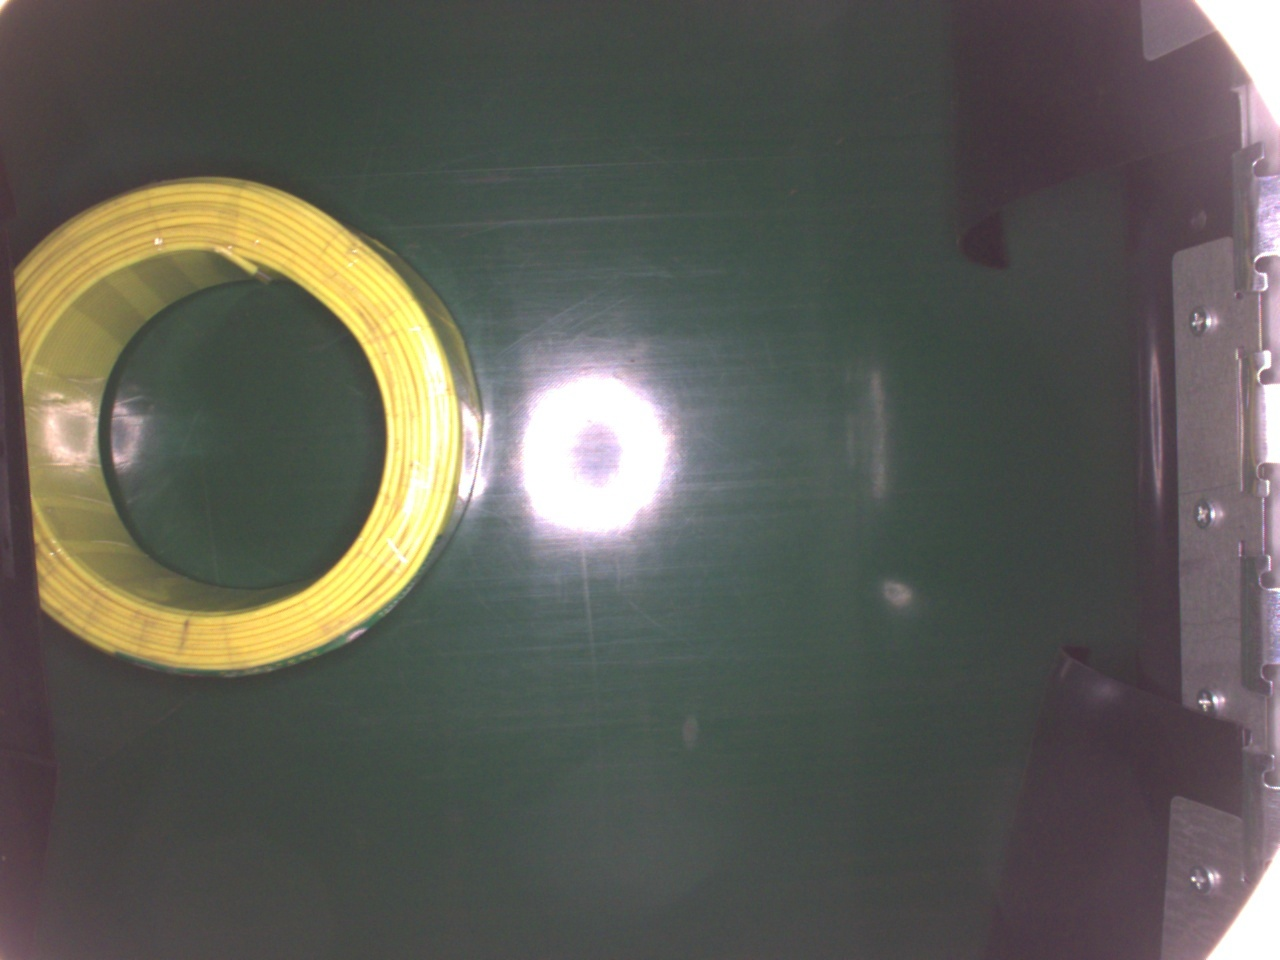yellow: (12, 176, 482, 679)
